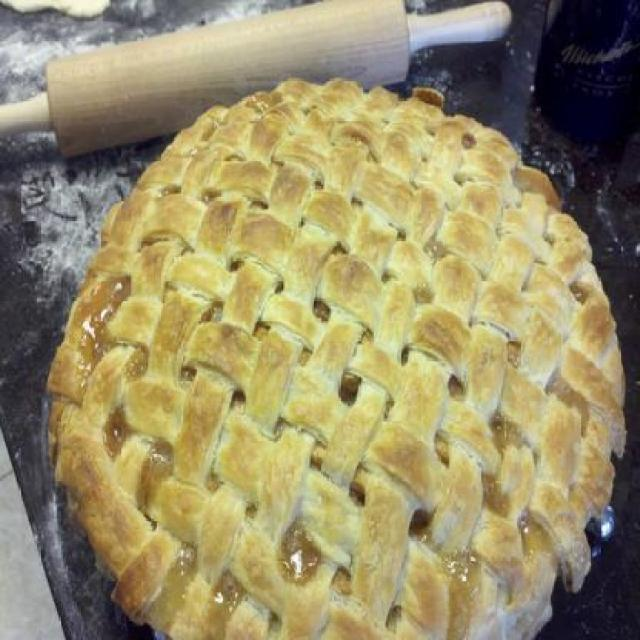Apple: (43, 76, 626, 638)
